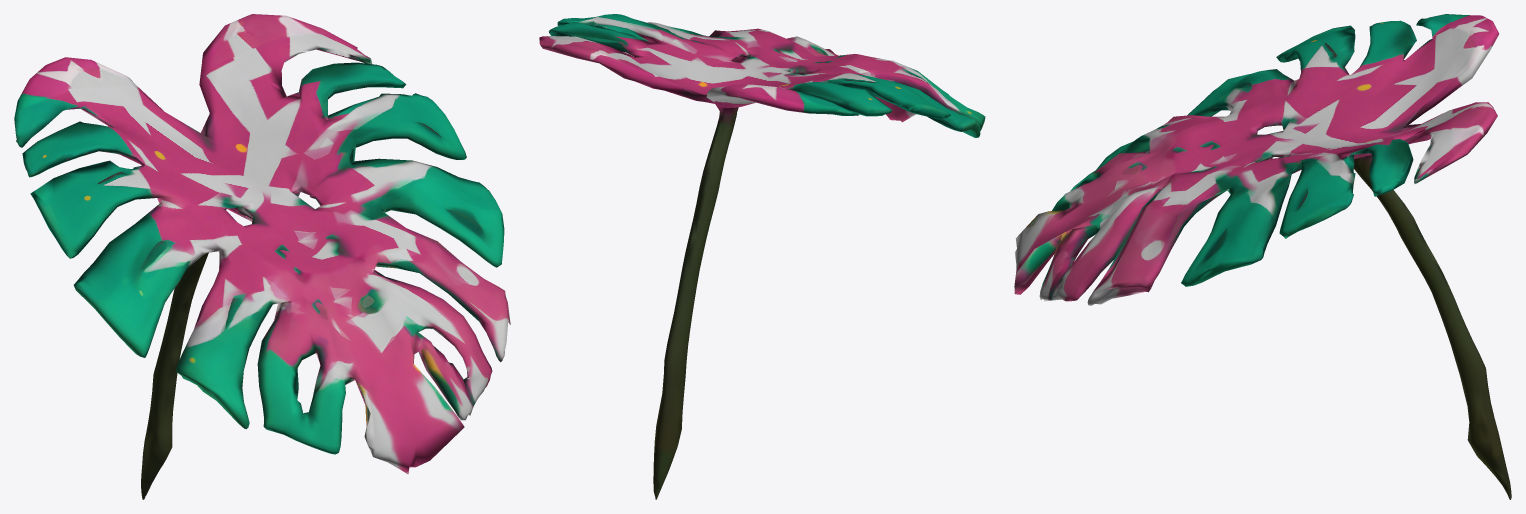
The model's file is mon_star_pinkmint_new.glb.
The picture shows the model from 3 angles, left to right: view 1: azimuth 30°, elevation 25°; view 2: azimuth 150°, elevation 25°; view 3: azimuth 270°, elevation 25°; orthographic projection. The views are drawn at different scales.
Size of the model in its own units: 1.76 by 1.92 by 2.
Materials: 1 (1 with a texture image).
